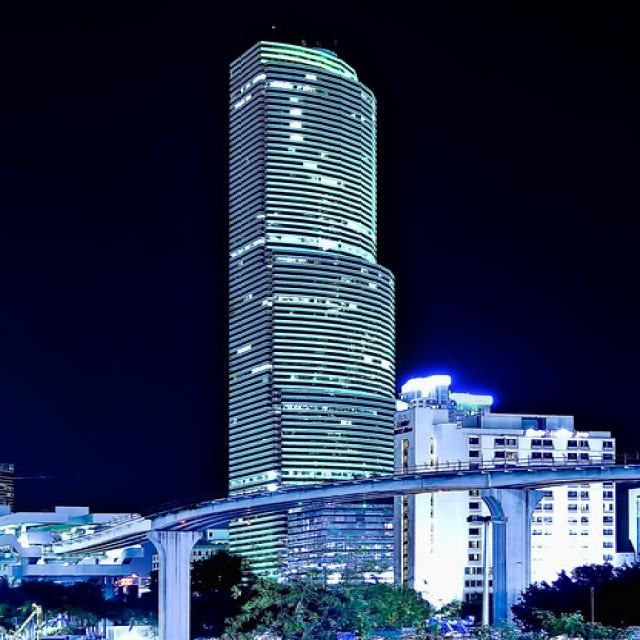Normal_building: (224, 36, 413, 631)
